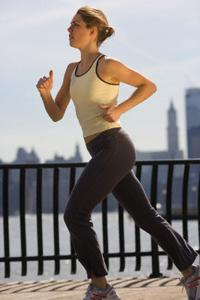person: (36, 5, 200, 300)
